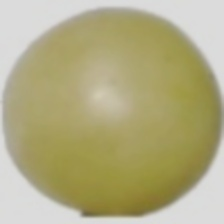grapes: (19, 49, 187, 200)
